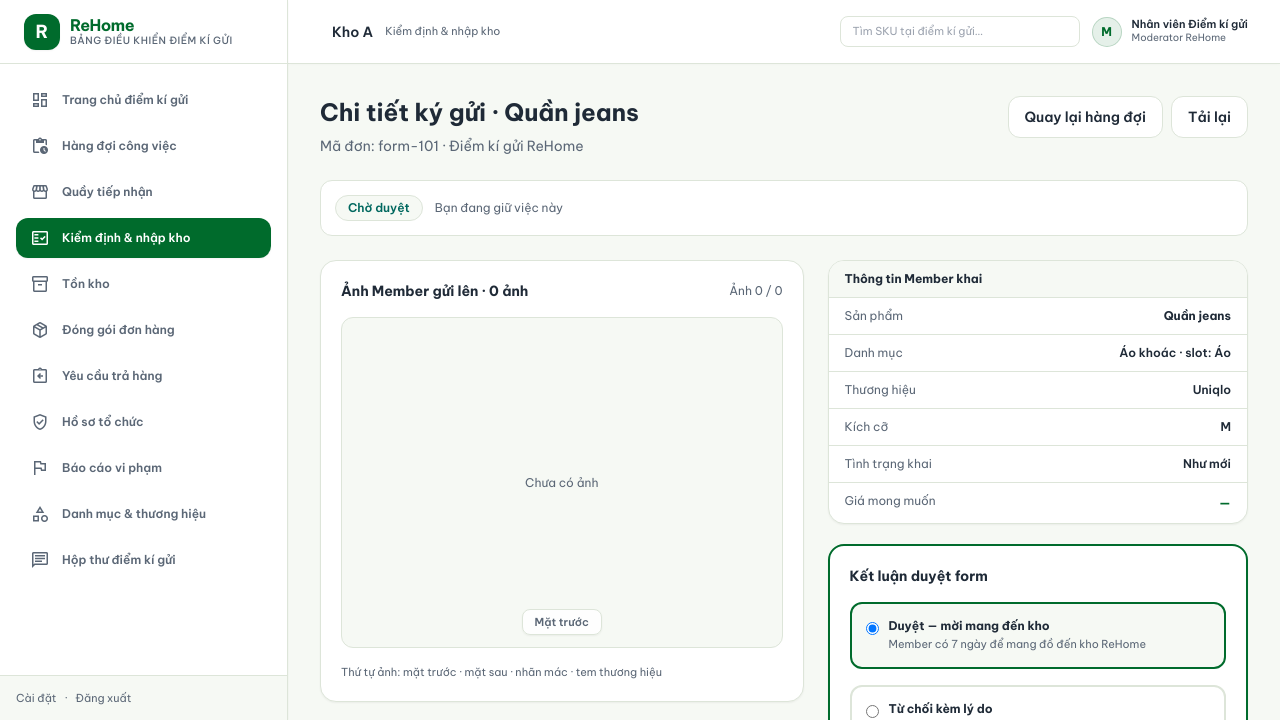
Test: ConsignmentDetailPage component behaviors › rejects form online with reason feedback
The image size is (1280, 720).
Expected: the heading "Chi tiết ký gửi · Quần jeans" is shown, [320,96,639,128]
Step 1. Click the radio button labelled "Từ chối kèm lý do" → [872, 711], box [866,704,878,718]
(page scrolled)
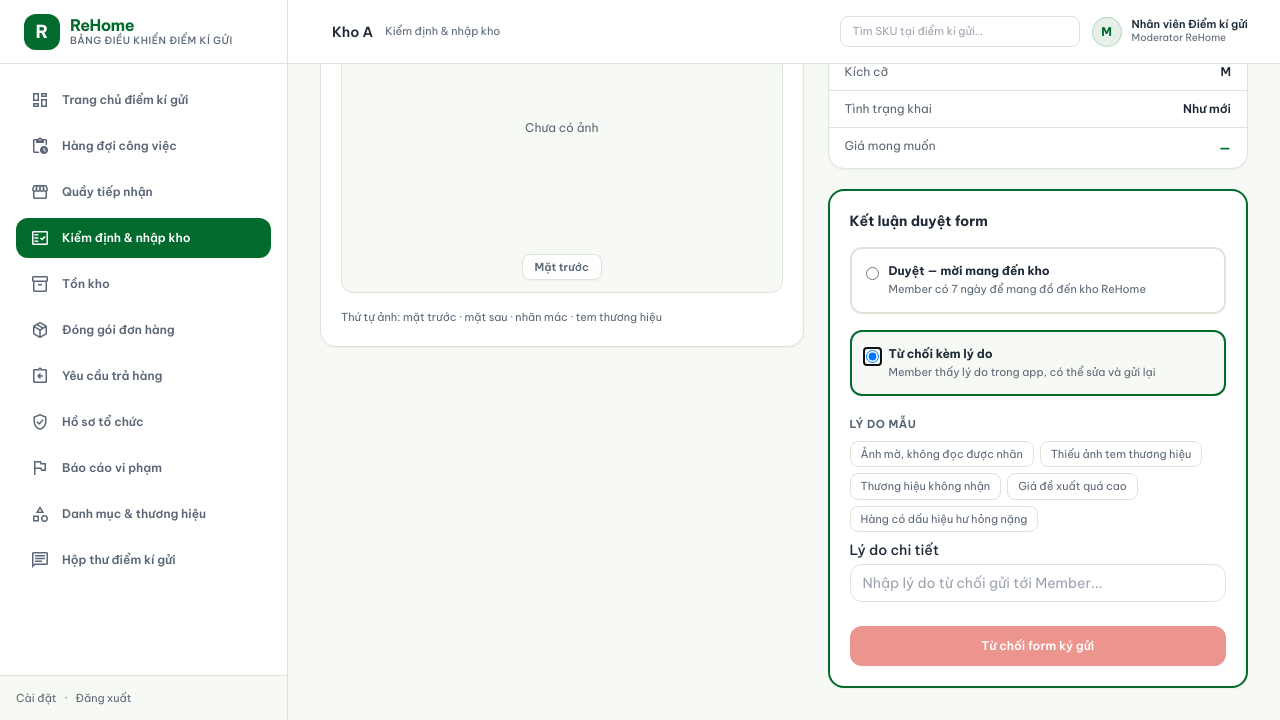
Step 2. Type "Ảnh quá mờ không xem được" into the field with placeholder "Nhập lý do từ chối gửi tới Member..." → [1038, 583], box [850,564,1226,602]
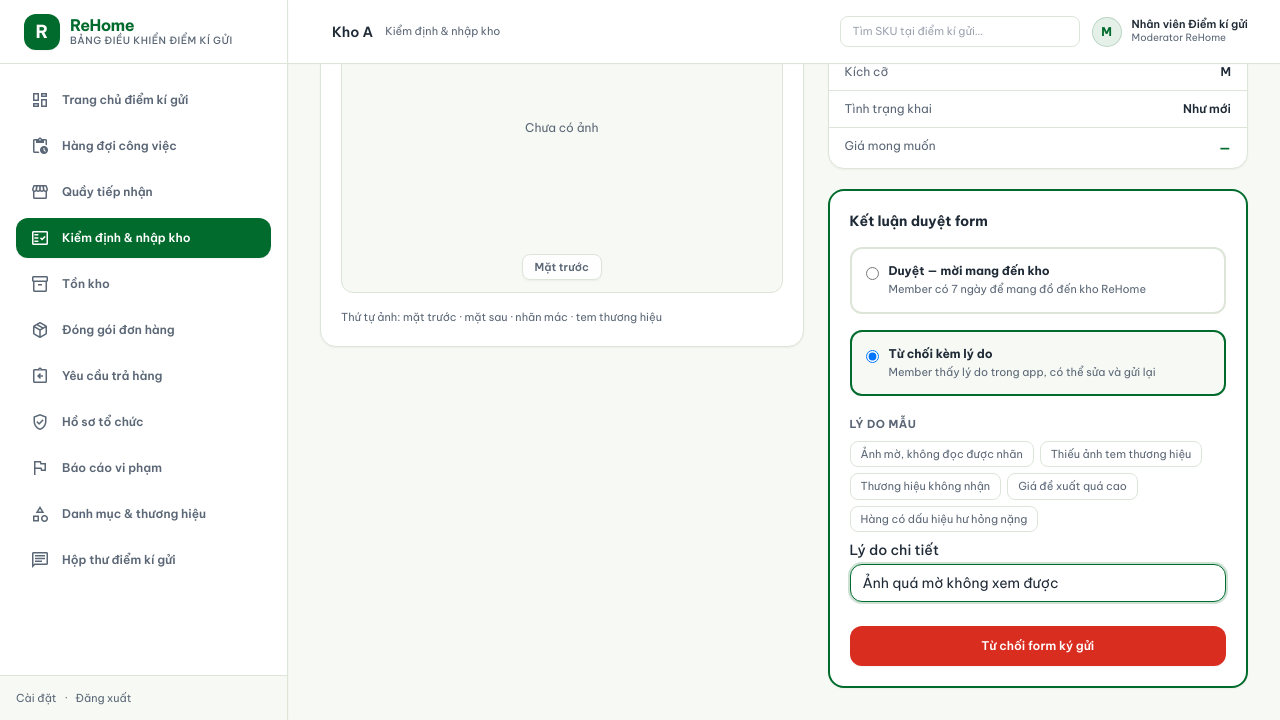
Step 3. Click the button "Từ chối form ký gửi" → [1038, 646], box [850,626,1226,666]
(page scrolled)
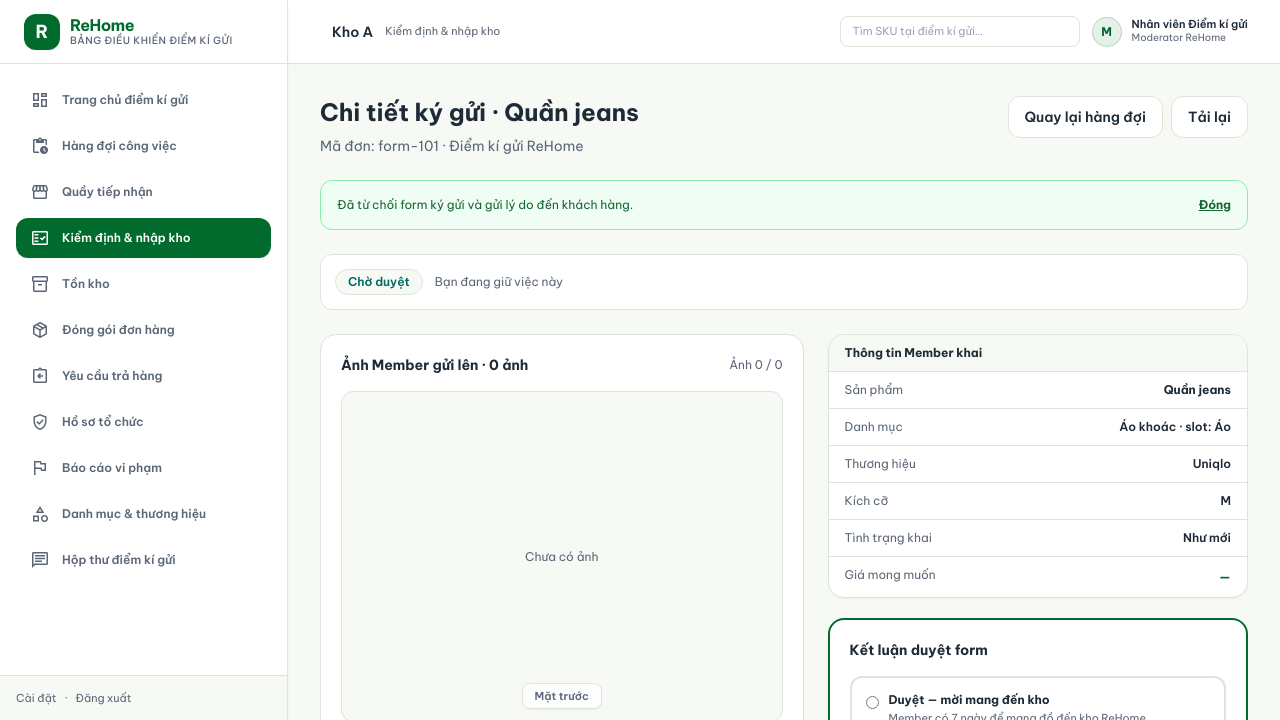
Now the text "Đã từ chối form ký gửi và gửi lý do đến khách hàng." is shown, box [337,197,633,213]
